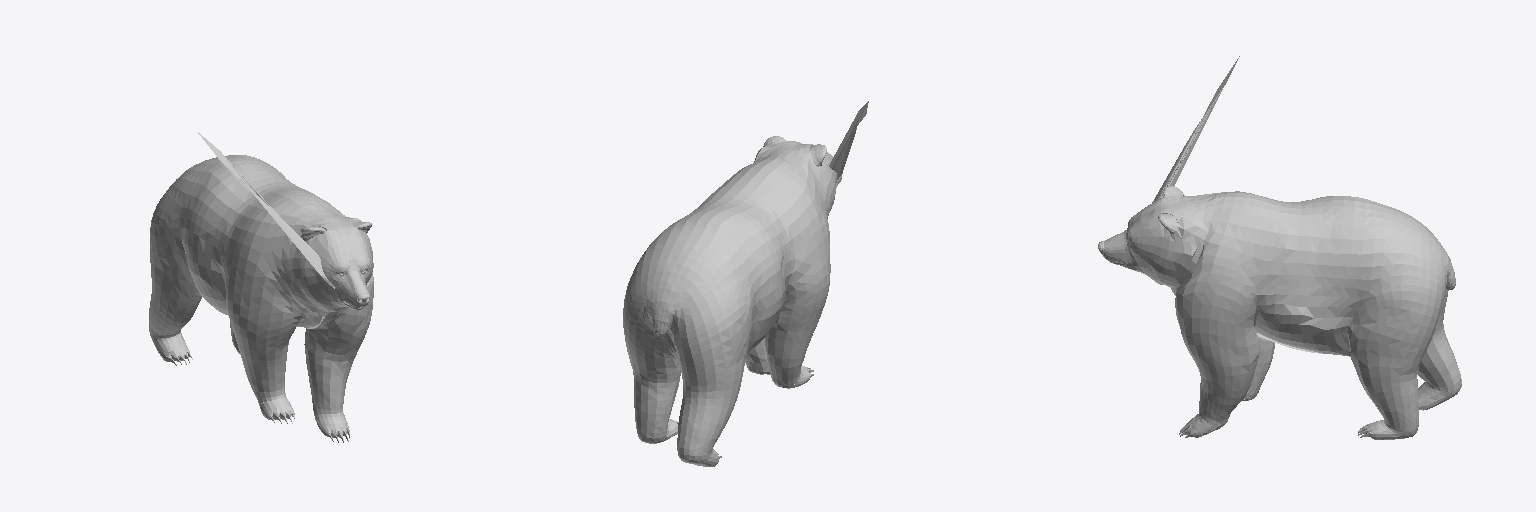
The model's file is Bear0192.obj.
3 renders of one model, left to right at view 1: azimuth 30°, elevation 25°; view 2: azimuth 150°, elevation 25°; view 3: azimuth 270°, elevation 25°, orthographic.
Visible parts, largest first — view 1: Object_237; view 2: Object_237; view 3: Object_237.
Part boxes in pixels (bbox=[...]): Object_237: bbox=[149, 132, 373, 442]; Object_237: bbox=[623, 101, 868, 466]; Object_237: bbox=[1098, 56, 1461, 439].
Size of the model in its own units: 2.52 by 4.8 by 4.92.